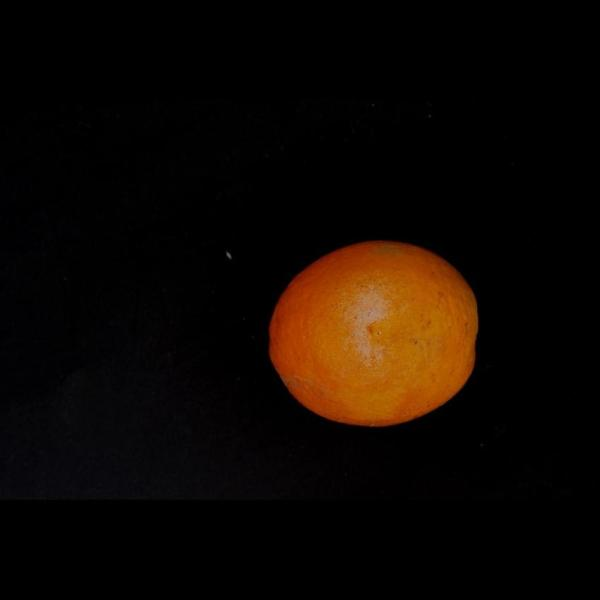Moho verde: (260, 226, 496, 442)
